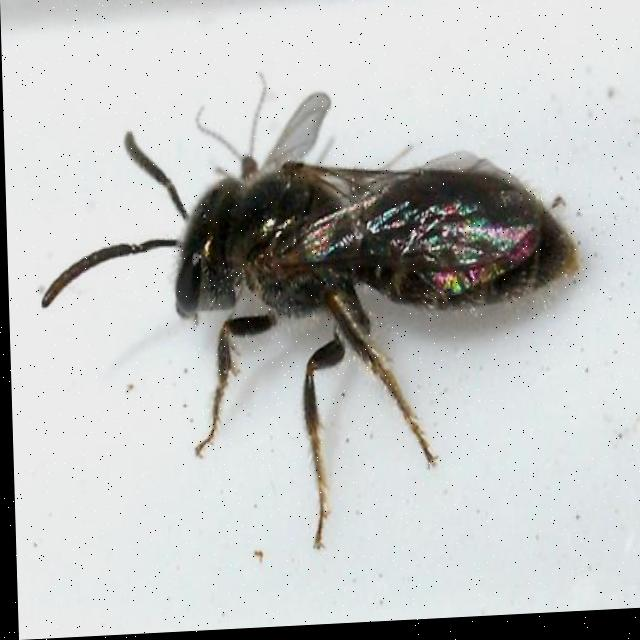Lasioglossum: (23, 78, 594, 543)
